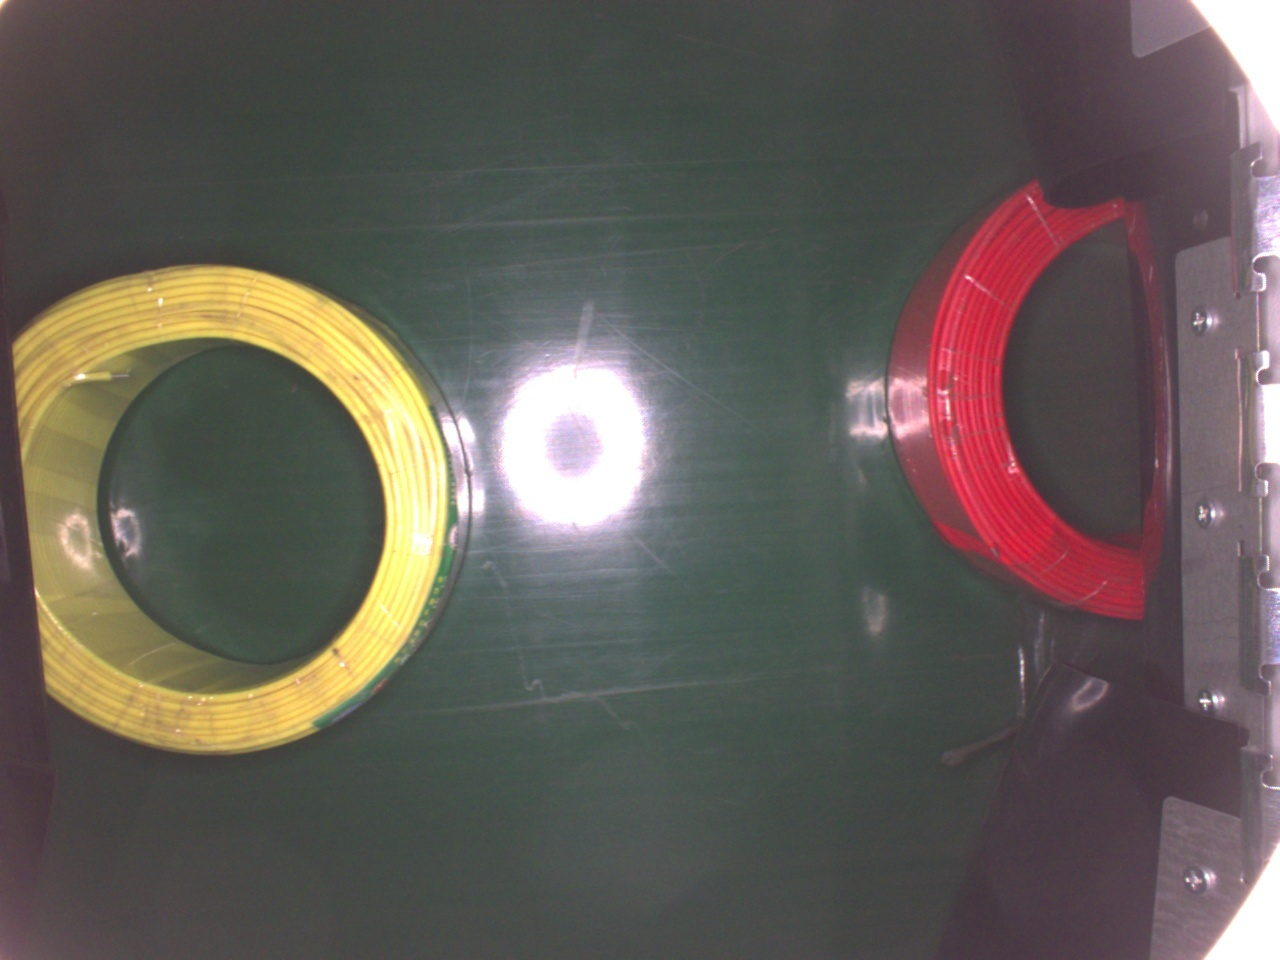red: (883, 170, 1145, 629)
yellow: (11, 265, 475, 758)
